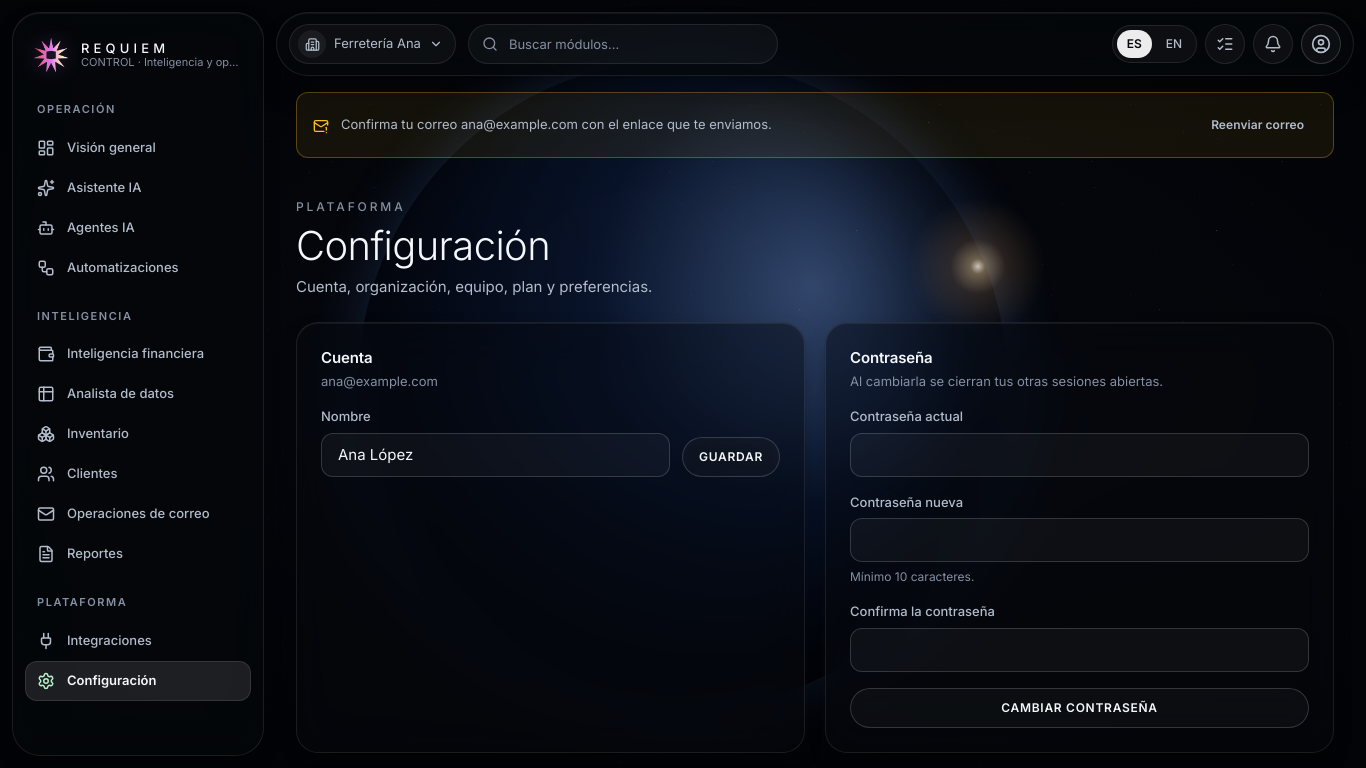
Test: account recovery and invitations › shows the unverified banner and resends the email
This screenshot has width=1366, height=768.
Check: the text "Confirma tu correo ana@example.com" is shown, box x1=341 y1=116 x2=772 y2=132
Click the button "Reenviar correo".
click(1258, 125)  # box x1=1198 y1=109 x2=1317 y2=141
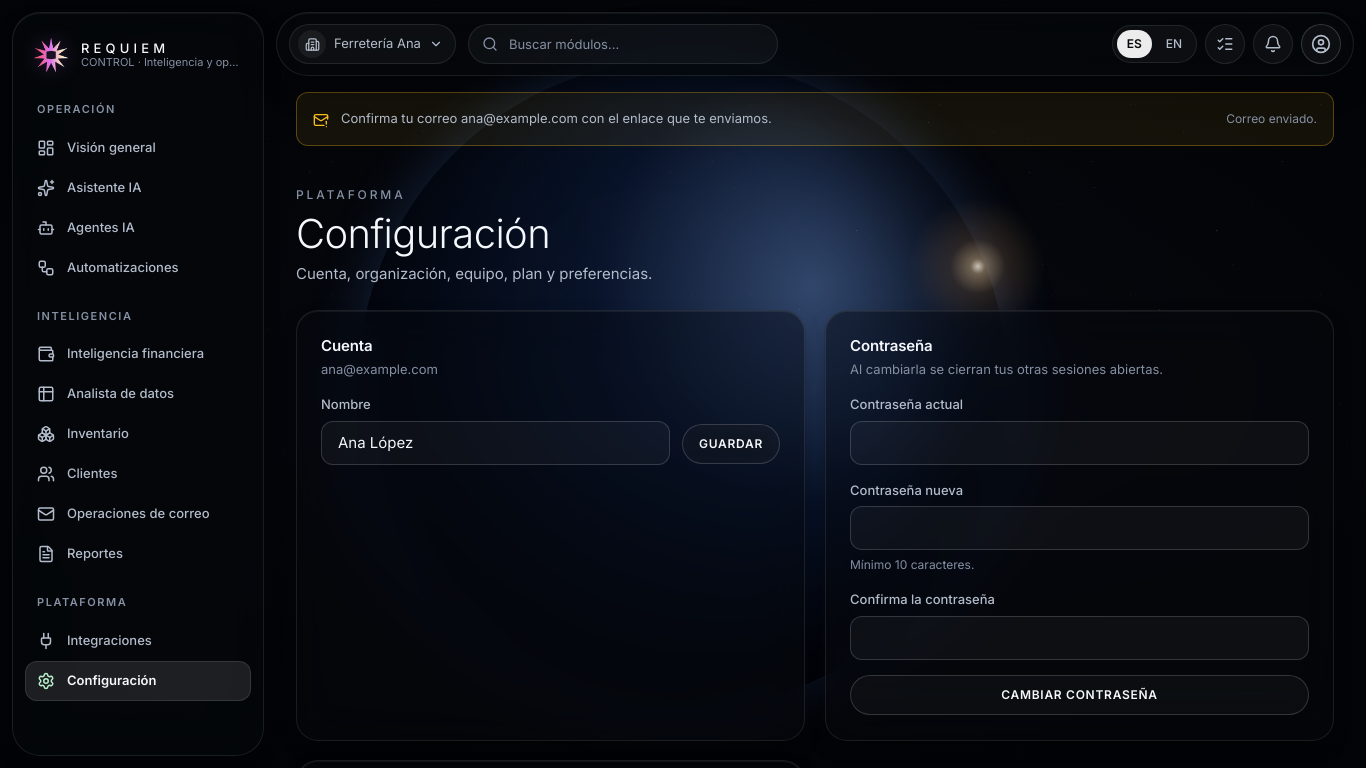
Check: the text "Correo enviado." is shown, box x1=1226 y1=110 x2=1317 y2=128
